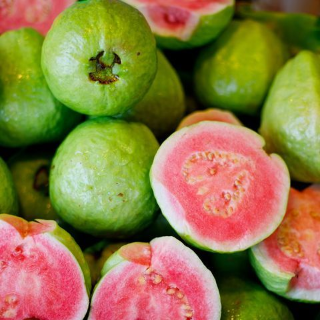oi: (41, 1, 156, 118), (50, 118, 157, 238)
